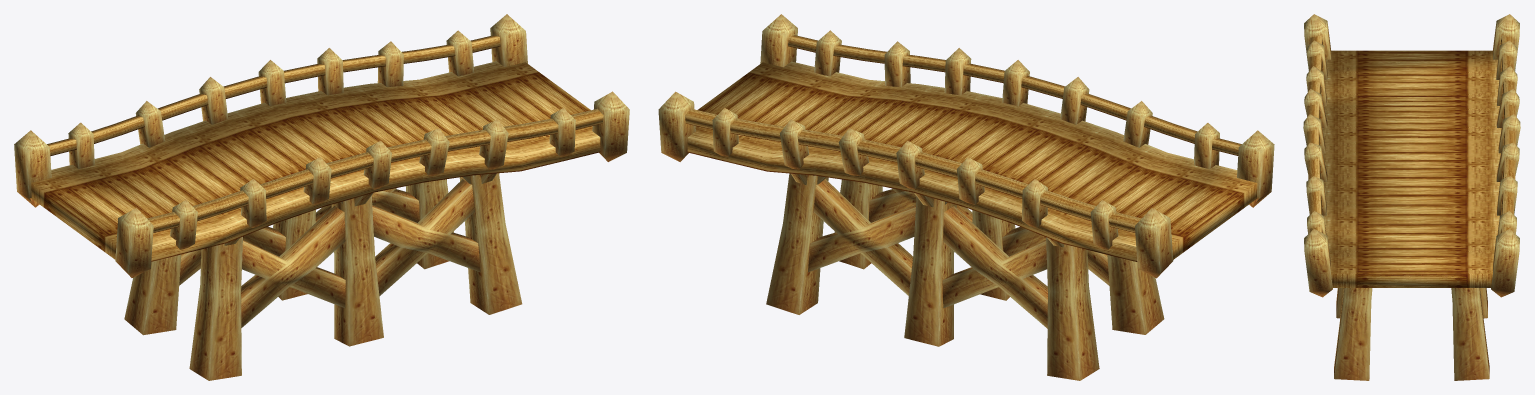
File: elwynnwidebridge.glb
3 views of the same model, side by side, from view 1: azimuth 30°, elevation 25°; view 2: azimuth 150°, elevation 25°; view 3: azimuth 270°, elevation 25° (orthographic). The views are drawn at different scales.
Bounding box in the file's own units: 26.26 × 10.85 × 10.69.
Materials: 2 (2 with a texture image).
